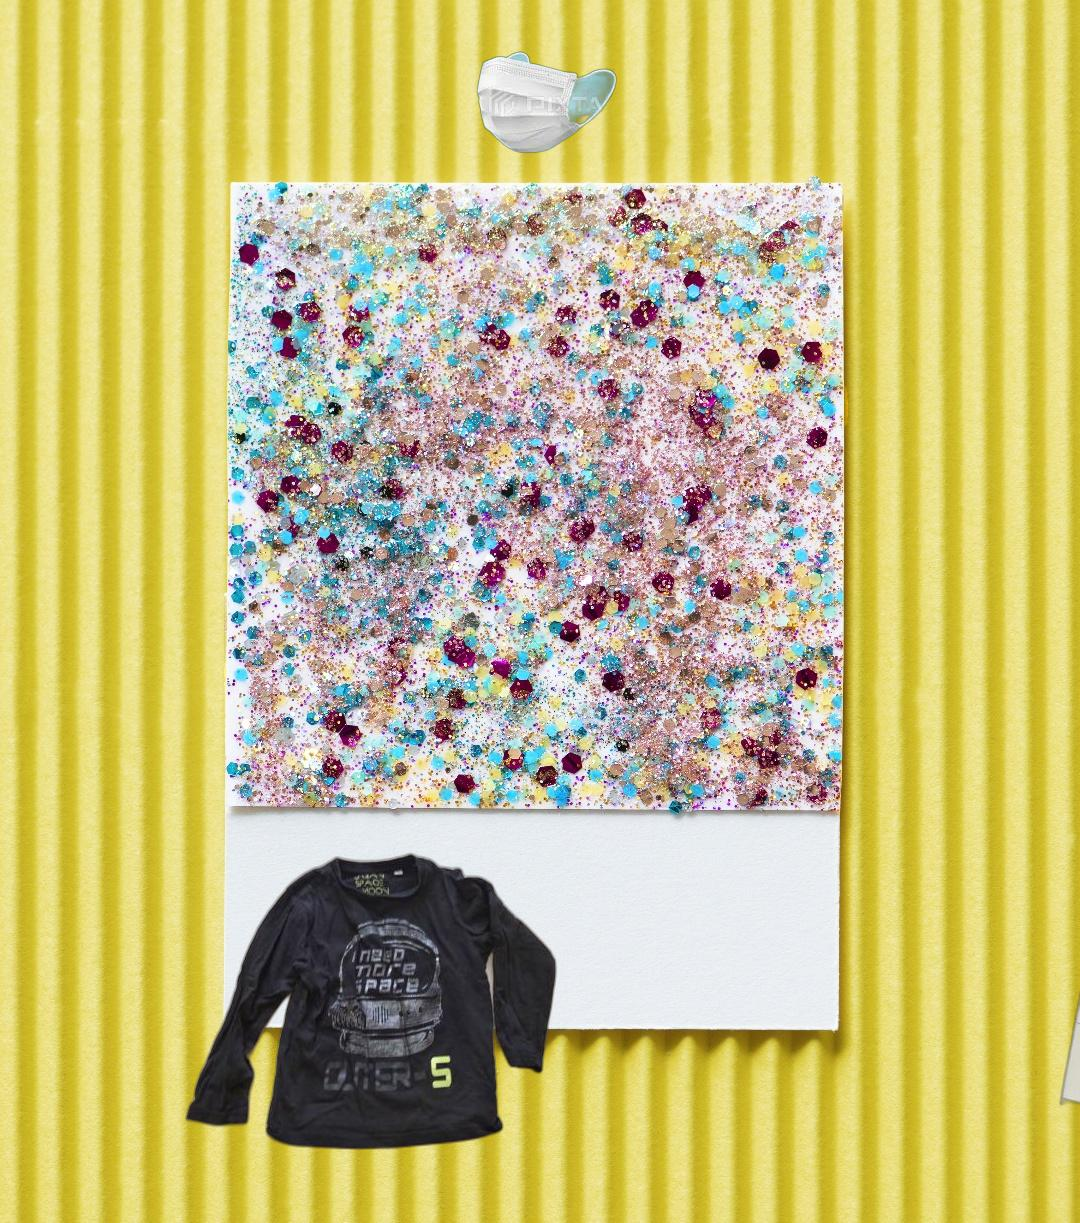clothes: (183, 848, 558, 1154)
paper: (1055, 812, 1080, 1132)
trash: (475, 49, 619, 156)
